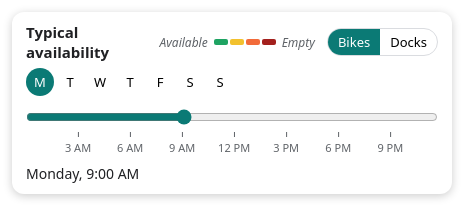
Test case: App › a day chip changes the label
Click the button named "Wednesday" at {"x": 100, "y": 82}, box [86, 68, 114, 96]
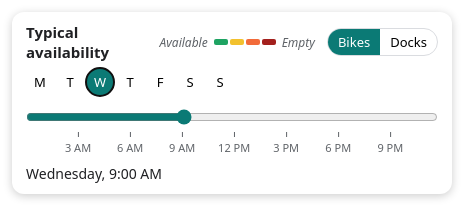
Expected: the text "Wednesday, 9:00 AM" is shown, [26, 164, 162, 182]
